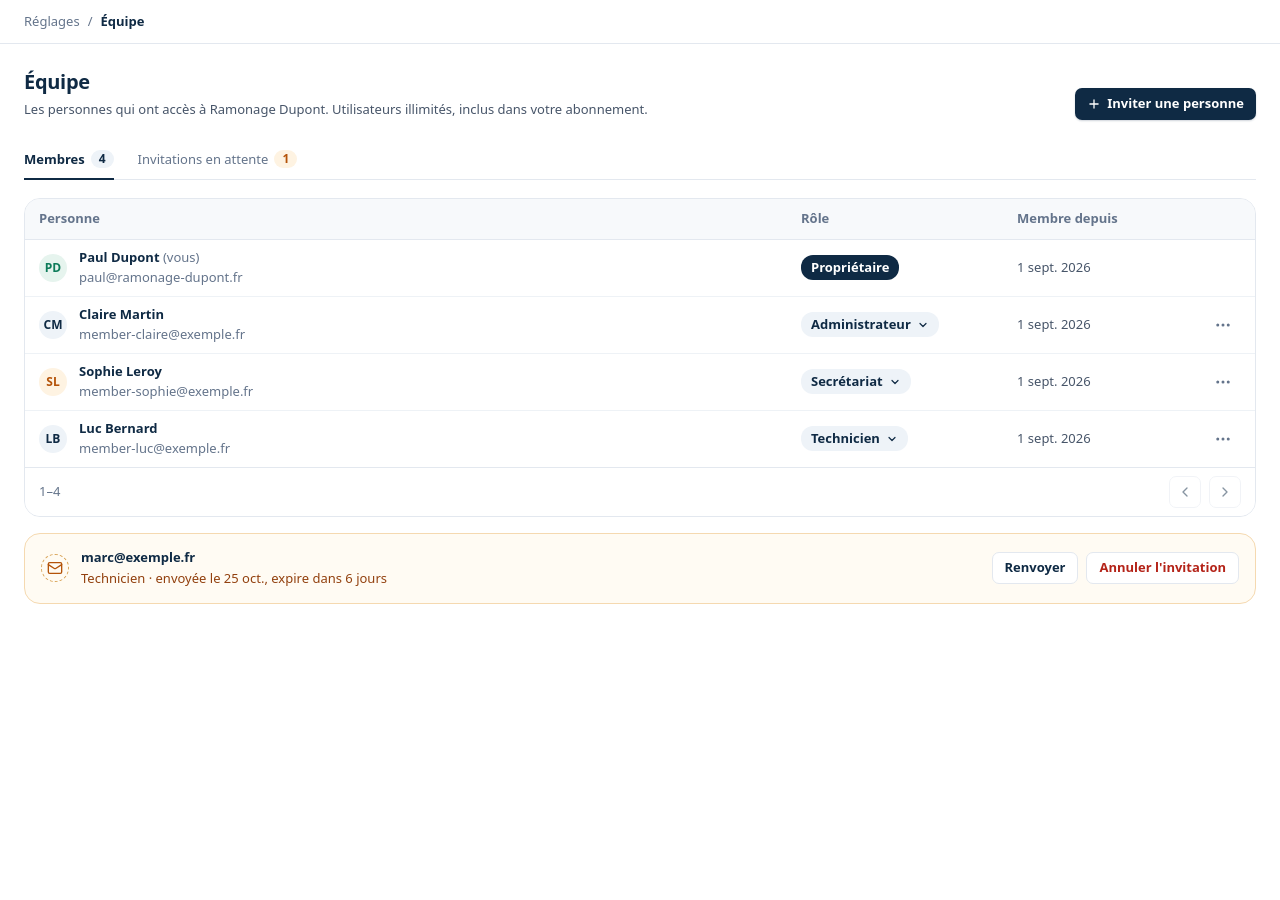
Test: TeamScreen management actions › sends nothing when the removal is cancelled
This screenshot has width=1280, height=900.
Expected: the text "Luc Bernard" is shown, [79,419,158,437]
Click the button named "Actions pour Luc Bernard": (1223,439) [1205,421,1241,457]
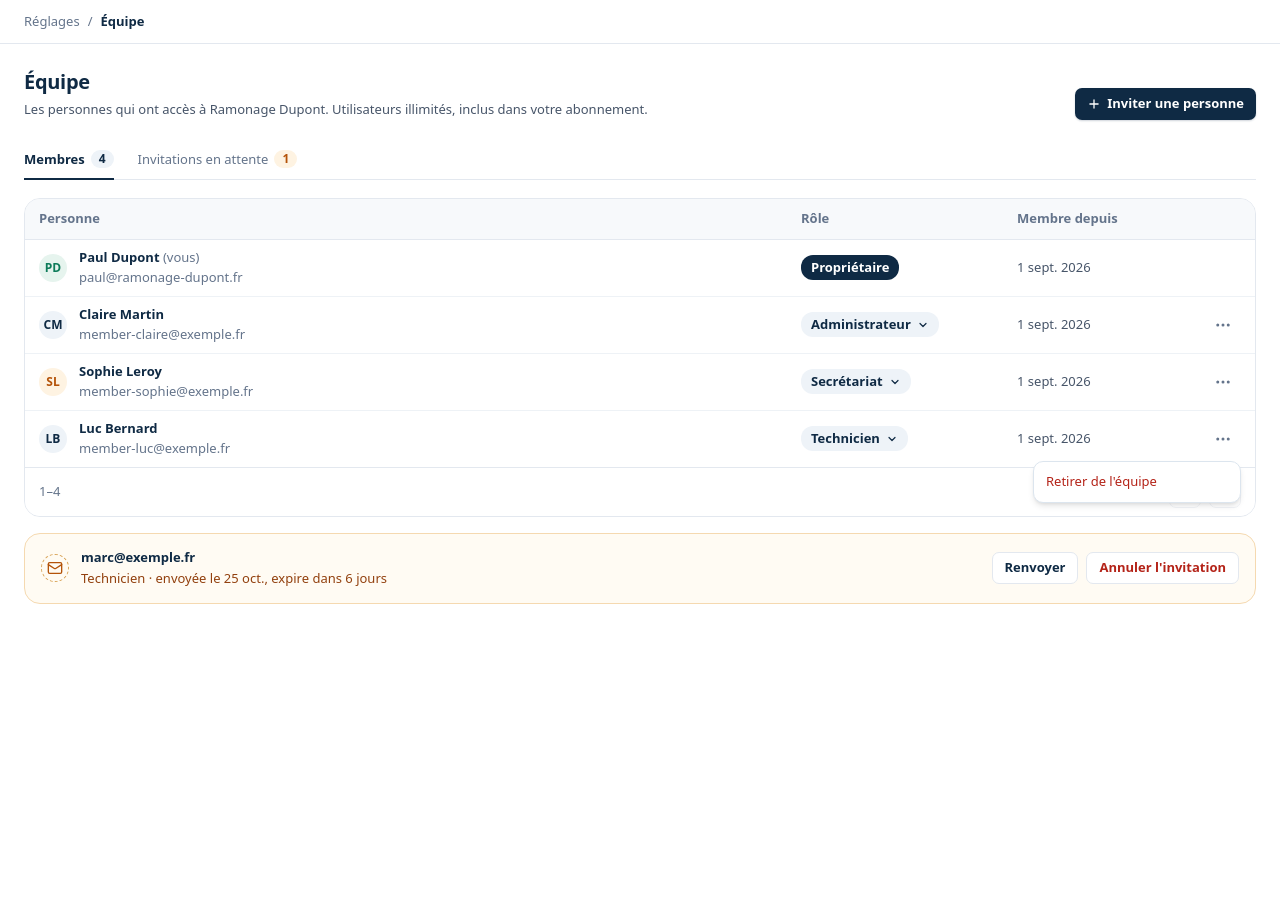
Click the menu item "Retirer de l'équipe": (1101,481) [1046,472,1157,490]
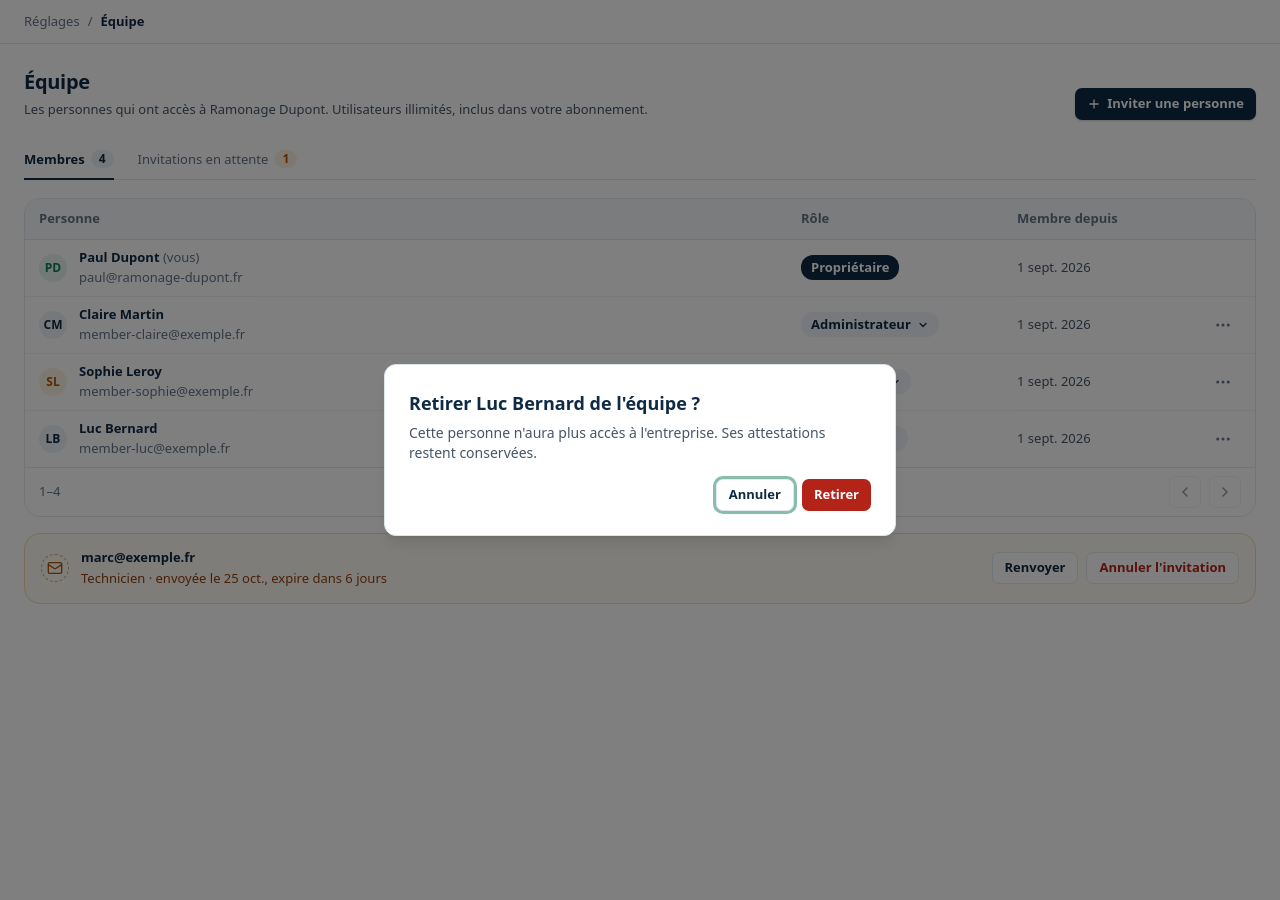
Click the button "Annuler": (755,495) [716,479,794,511]
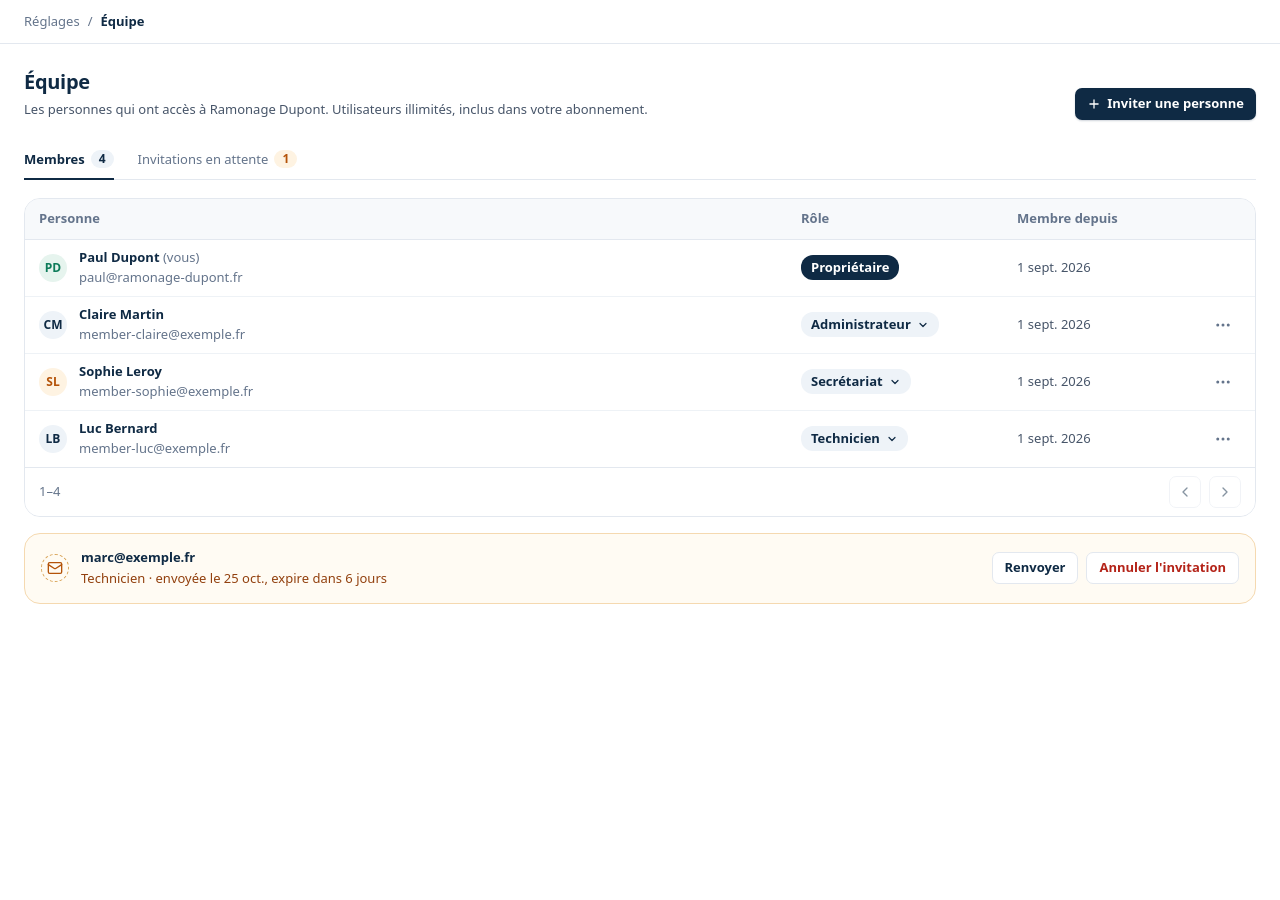
Expected: the dialog is gone
